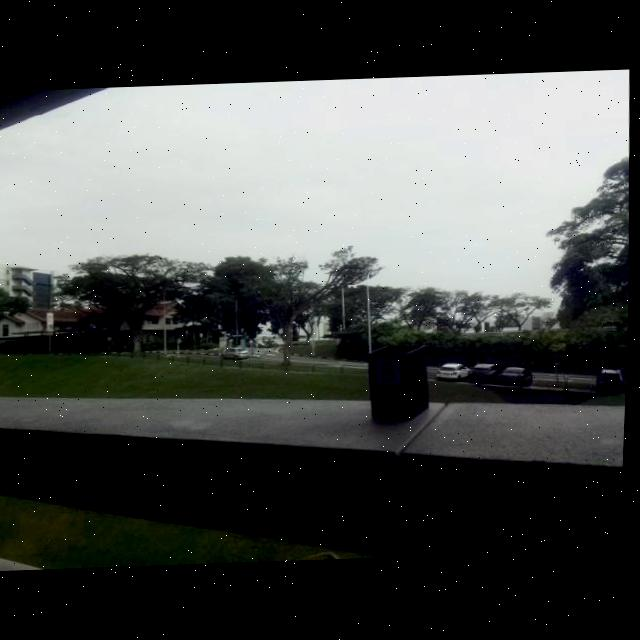B: (383, 360, 399, 383)
